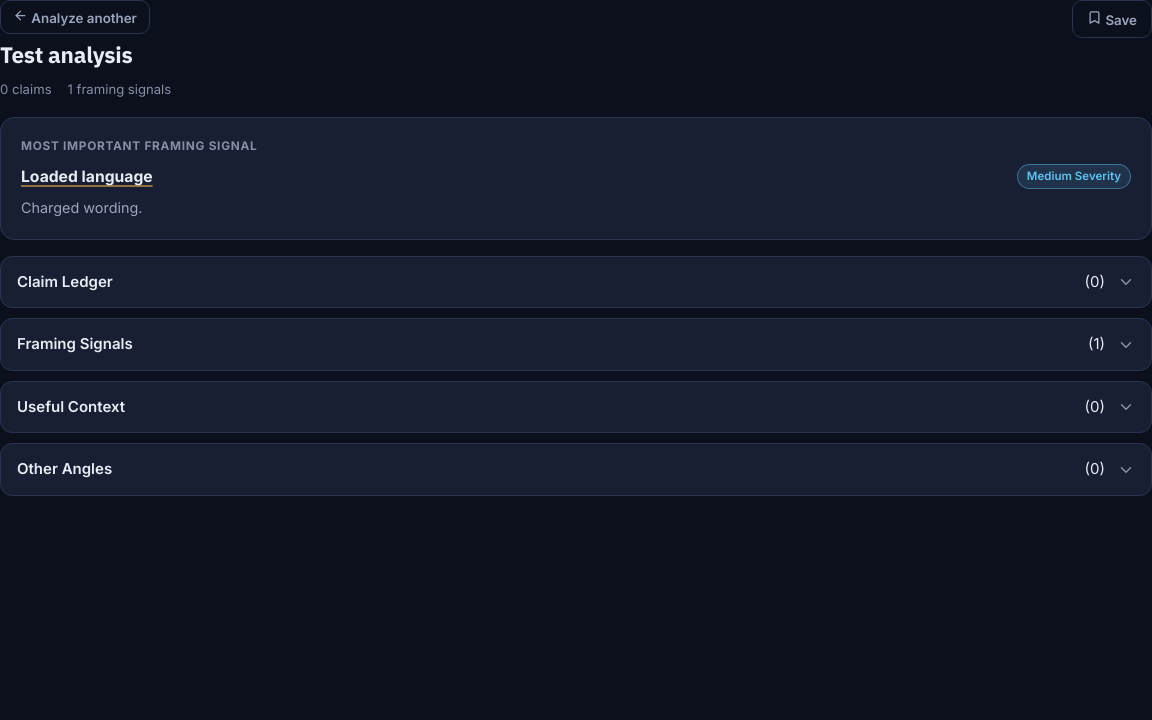
Test: Report gated Flag — active session › shows "action was not recorded" and re-enables on failure
Click the button "Framing Signals (1)" at [75, 344], box [17, 334, 1135, 354]
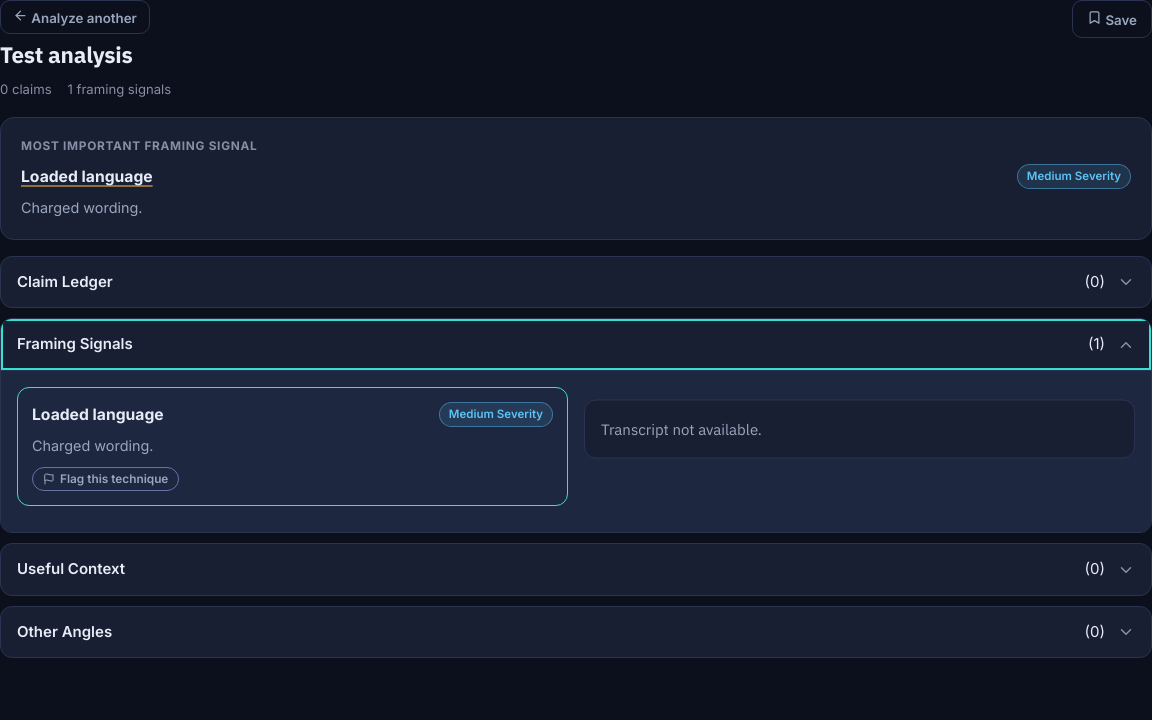
Click the button "Flag this technique" at [106, 479], box [32, 467, 179, 491]
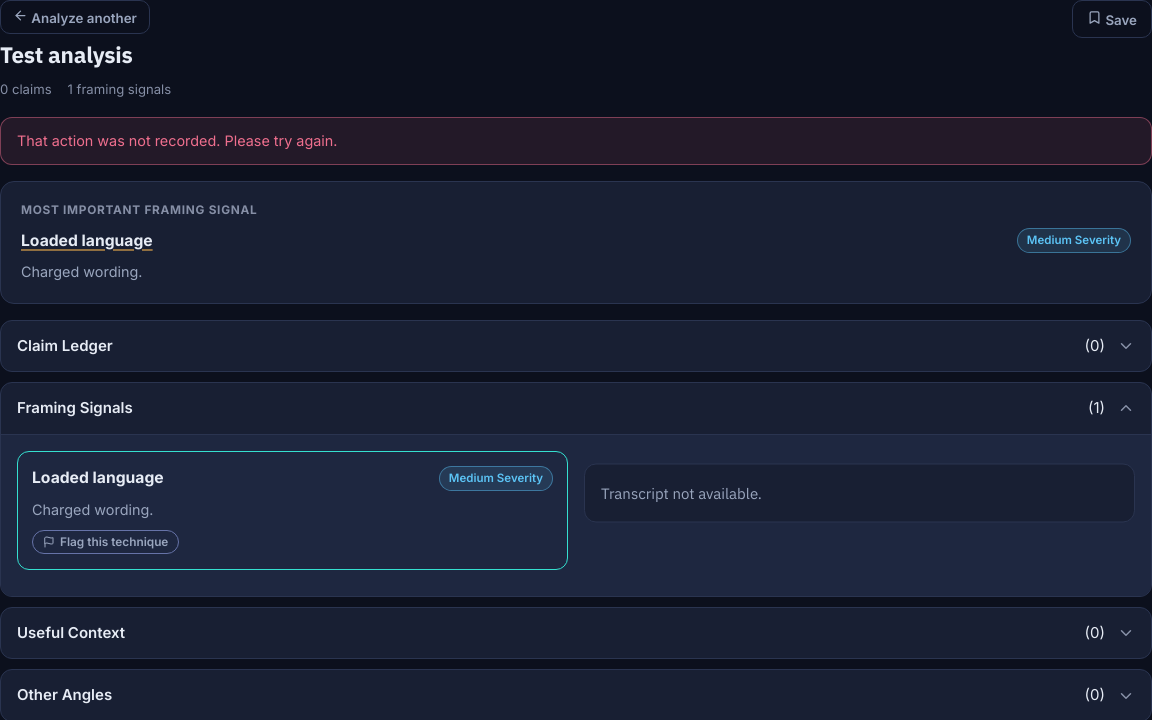
Result: the button "Flag this technique" is enabled at [32, 530, 179, 554]
Result: the text "That action was not recorded. Please try again." is shown at [0, 117, 1151, 165]
